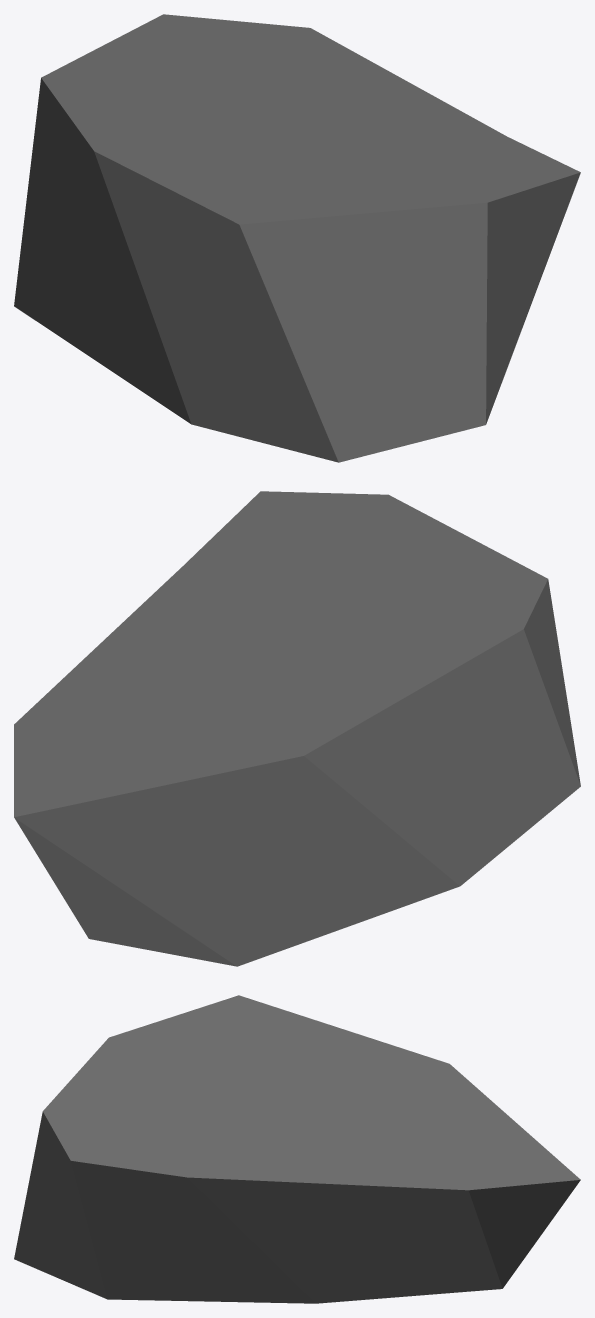
File: Centered  - Rock1.fbx
3 views of the same model, one above another, from view 1: azimuth 30°, elevation 25°; view 2: azimuth 150°, elevation 25°; view 3: azimuth 270°, elevation 25° (orthographic). The views are drawn at different scales.
Parts seen in each view (by area): view 1: Rock1; view 2: Rock1; view 3: Rock1.
Boxes of the visible parts, x1,y1,x2,y2 form: Rock1: (14,14,580,462); Rock1: (14,491,580,966); Rock1: (14,995,580,1303).
Bounding box in the file's own units: 1.65 × 2.73 × 1.03.
